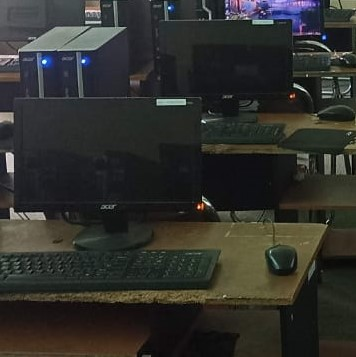monitor: (13, 97, 204, 217), (158, 20, 294, 102), (222, 0, 325, 41)
